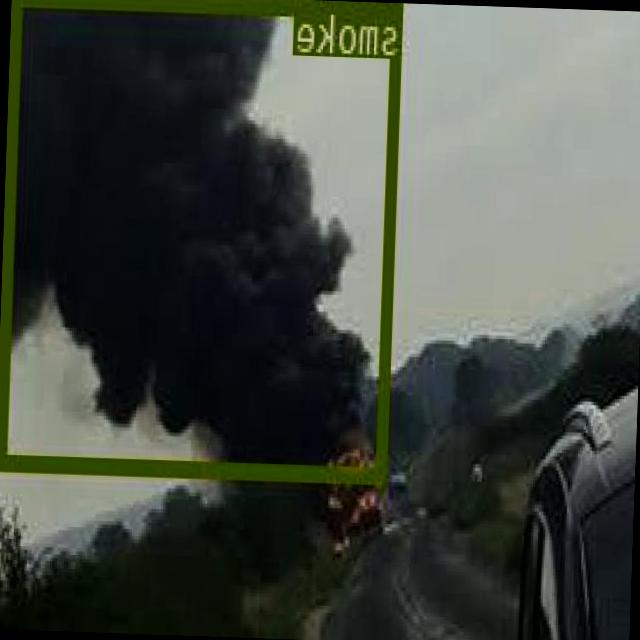smoke: (0, 0, 405, 478)
